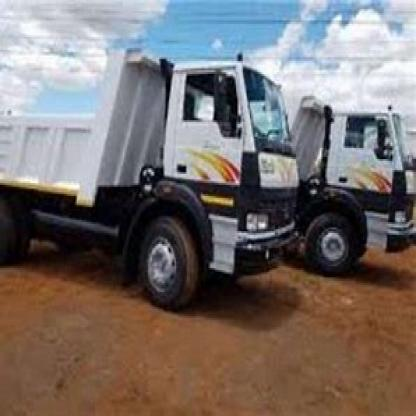dump_truck: (7, 38, 296, 310), (297, 81, 415, 281)
